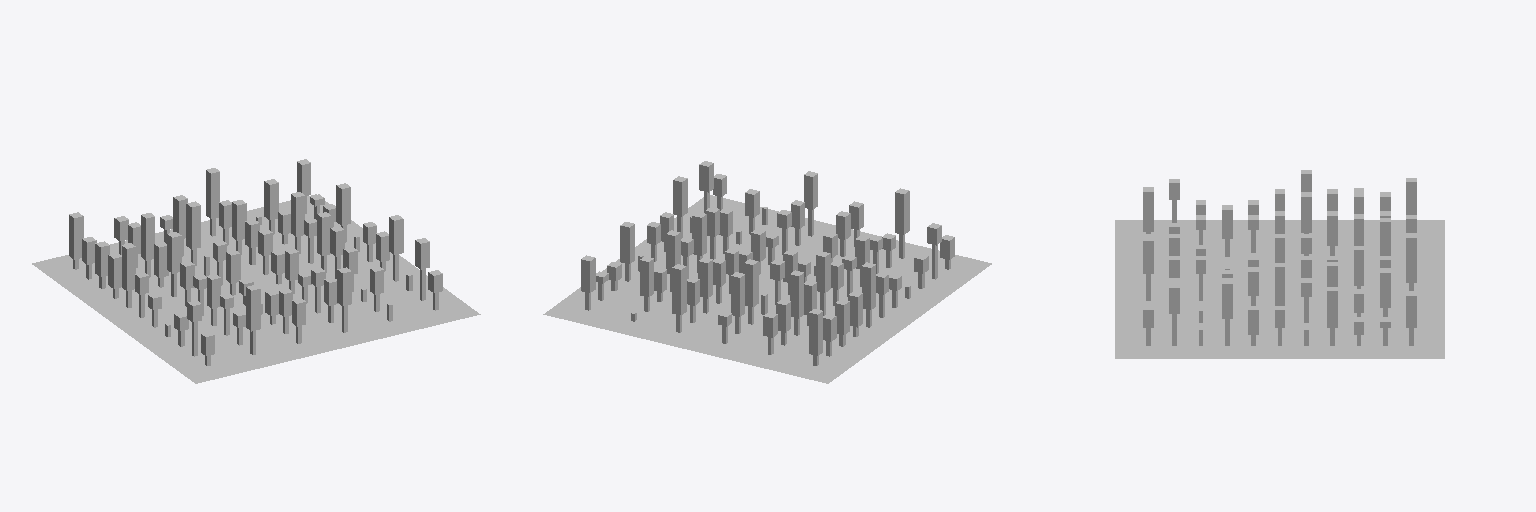
Rendered from WheatFieldLand33%.obj.
3 renders of one model, left to right at view 1: azimuth 30°, elevation 25°; view 2: azimuth 150°, elevation 25°; view 3: azimuth 270°, elevation 25°, orthographic.
Visible parts, largest first — view 1: Land_33%_Plane.008; view 2: Land_33%_Plane.008; view 3: Land_33%_Plane.008.
Part boxes in pixels (left/top/right/bottom): Land_33%_Plane.008: left=32, top=159, right=480, bottom=383; Land_33%_Plane.008: left=543, top=161, right=991, bottom=383; Land_33%_Plane.008: left=1115, top=170, right=1444, bottom=358.
Bounding box in the file's own units: 2 × 0.4438 × 2.